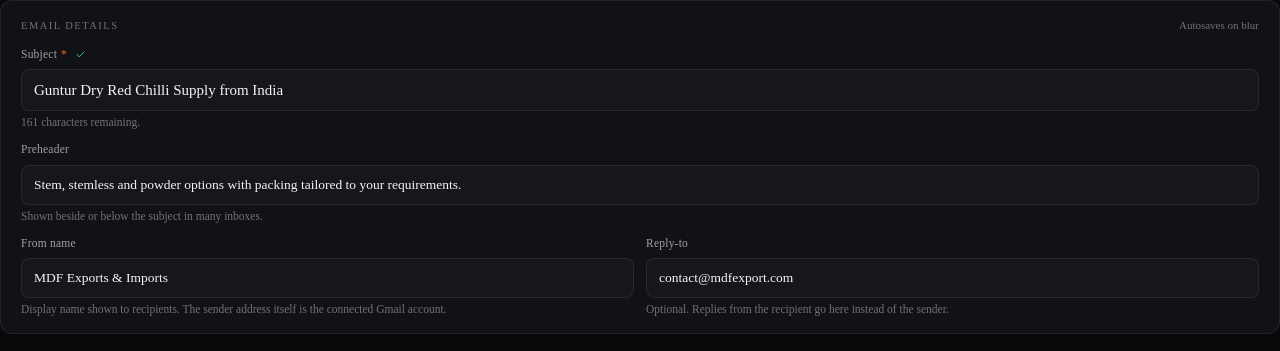
Test case: EmailDetailsPanel — partial-update safety on blur › blocks an invalid reply-to email address
Replace the text in the field labelled "Reply-to" with "not-an-email". click: (952, 278)
box: [646,258,1259,298]
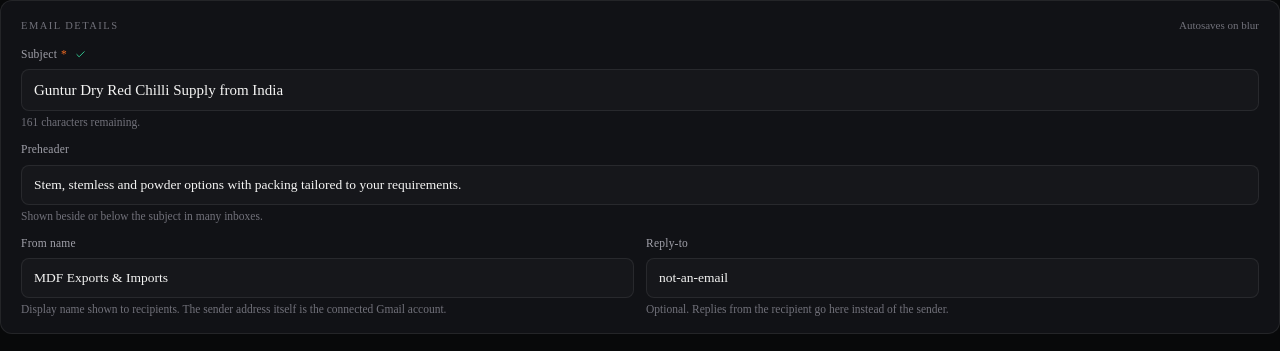
Leave the field labelled "Reply-to", box [646,258,1259,298]
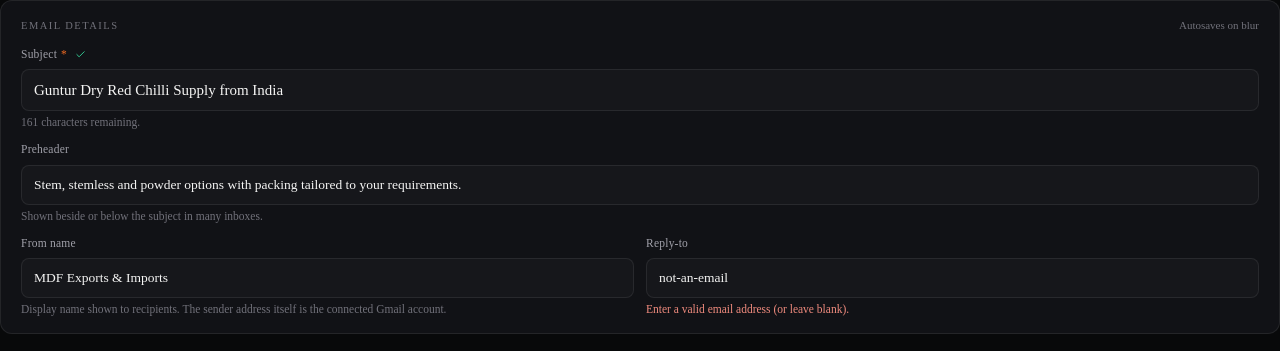
Now the text "Enter a valid email address (or leave blank)." is shown, box [646,303,849,315]
